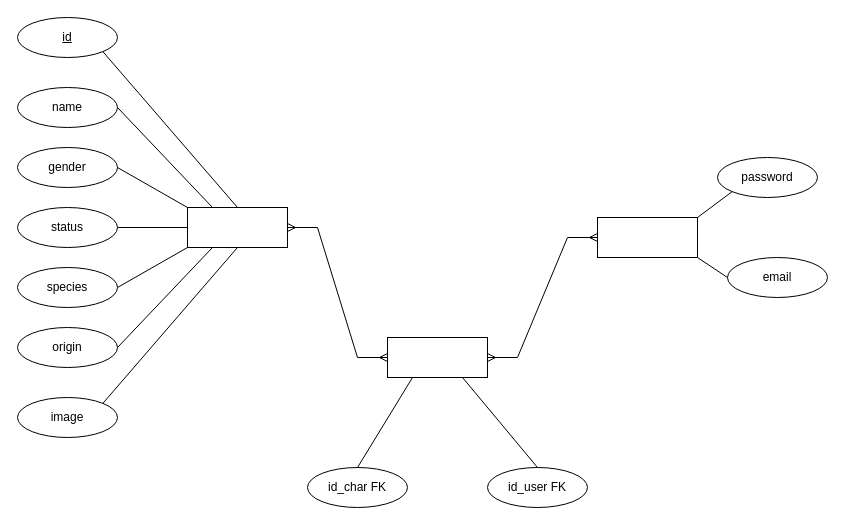
Some shapes in this 845 by 525 pixel diagram are drawn without their labels. Each missing label, with the centre of its shape:
"Character" goes at point 237,227.
"Favorites" goes at point 437,357.
"Users" goes at point 647,237.
